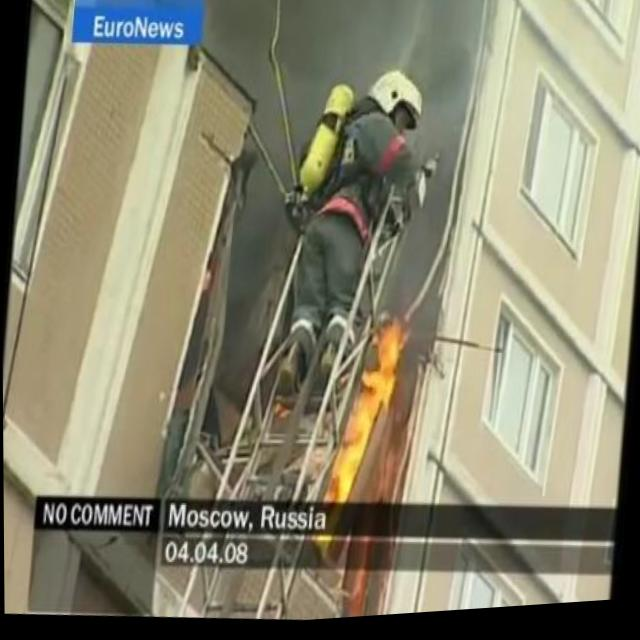fire: (321, 315, 413, 515), (269, 400, 292, 424)
